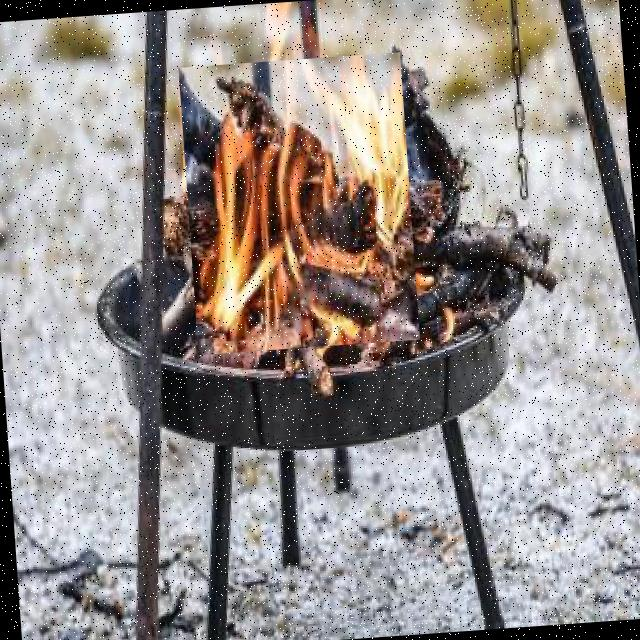fire: (178, 52, 420, 354)
